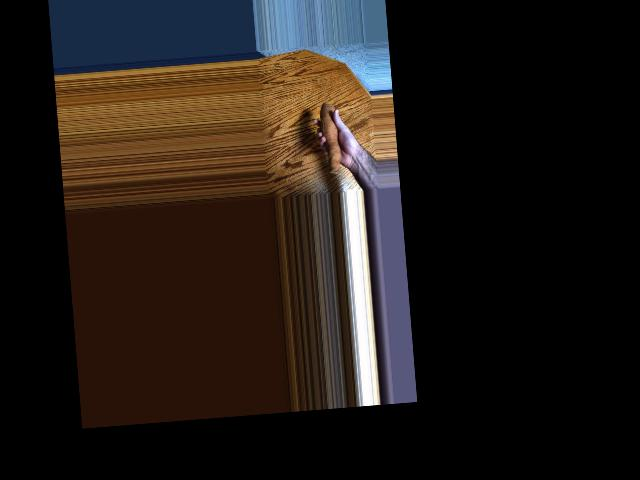sweet_potato: (316, 95, 350, 177)
